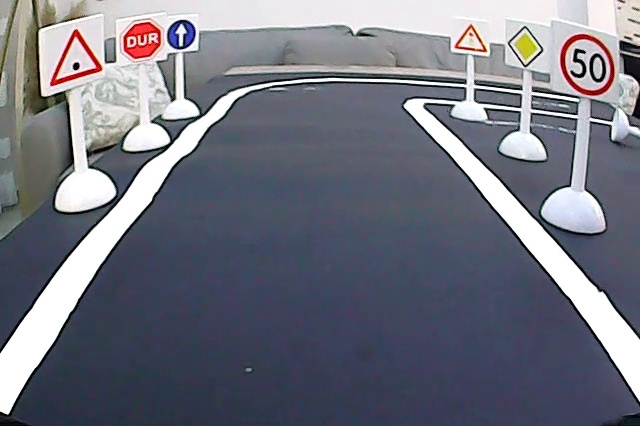green light: (40, 27, 110, 87)
red light: (452, 19, 489, 54)
speed limit 50: (556, 27, 617, 98)
stop sign: (120, 20, 169, 63)
